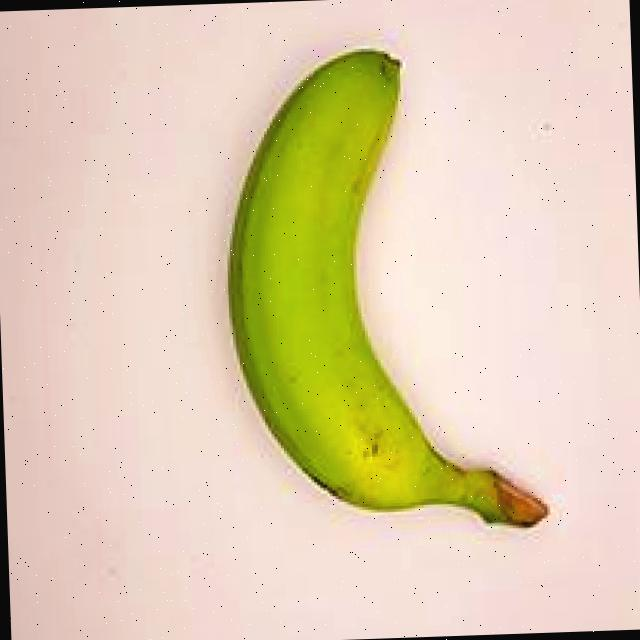Unripe: (164, 1, 569, 572)
